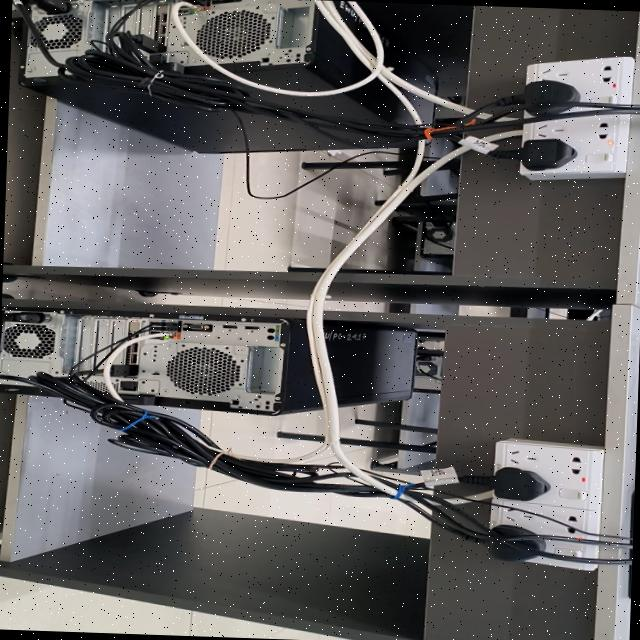Cpu: (18, 0, 445, 155), (0, 308, 418, 414), (408, 331, 444, 394), (416, 220, 458, 271)
